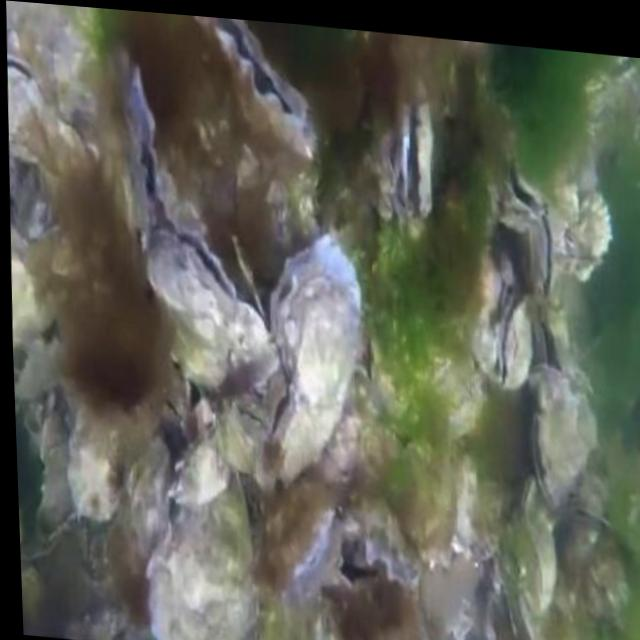Oyster-Closed: (7, 57, 91, 241), (530, 387, 597, 507), (122, 62, 168, 236), (501, 167, 553, 301), (521, 473, 558, 607), (170, 427, 229, 503), (498, 293, 533, 390)
Oyster-Indeterminate: (146, 471, 257, 640), (67, 405, 148, 520), (518, 567, 577, 640), (572, 190, 611, 280)
Oyster-Open: (258, 237, 362, 486), (148, 231, 278, 396), (193, 16, 319, 156), (365, 505, 420, 585), (399, 86, 432, 214)
